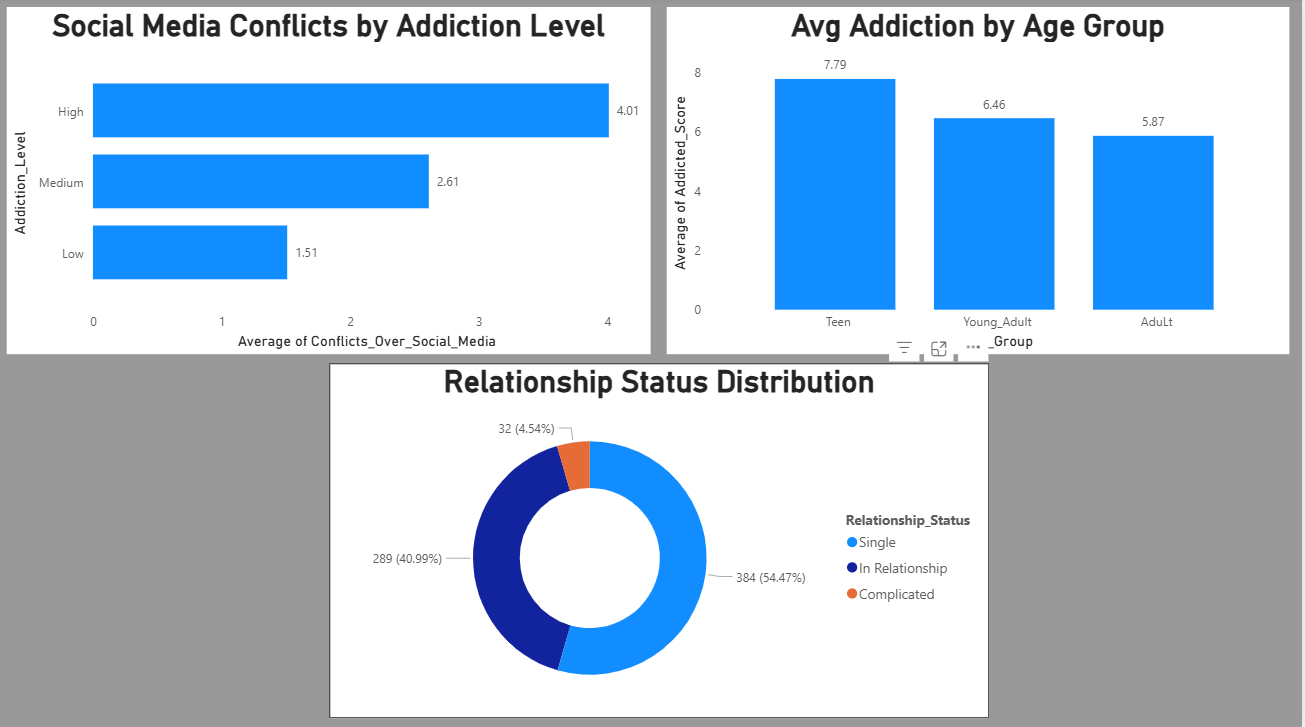

The page's visual inventory and layout, read from the dashboard file:
{"tool":"powerbi","page":{"name":"Lifestyle & Conflicts","canvas":[1280,720],"ordinal":2},"visuals":[{"type":"clusteredBarChart","title":"Social Media Conflicts by Addiction Level","fields":{"Category":["Student Details.Addiction_Level"],"Y":["Avg(Student Details.Conflicts_Over_Social_Media)"]},"box":[8.6,9.8,631.9,341.1],"z":0},{"type":"clusteredColumnChart","title":"Avg Addiction by Age  Group","fields":{"Category":["Student Details.Age_Group"],"Y":["Avg(Student Details.Addicted_Score)"]},"box":[656.4,9.8,611,341.1],"z":1000},{"type":"donutChart","title":"Relationship Status Distribution","fields":{"Category":["Student Details.Relationship_Status"],"Y":["CountNonNull(Student Details.Student_ID)"]},"box":[325.2,359.5,647.9,348.5],"z":2000}]}

Visuals, with their boxes in screenshot pixels (x1, y1, x2, y2), scaled from the page's 1280x720 canvas onto the 1305x727 screenshot:
"Social Media Conflicts by Addiction Level" clusteredBarChart: {"left": 9, "top": 10, "right": 653, "bottom": 354}
"Avg Addiction by Age  Group" clusteredColumnChart: {"left": 669, "top": 10, "right": 1292, "bottom": 354}
"Relationship Status Distribution" donutChart: {"left": 332, "top": 363, "right": 992, "bottom": 715}
